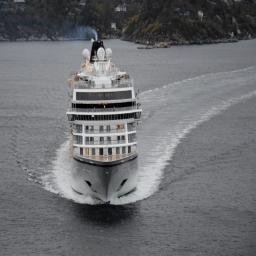cruises: (65, 37, 146, 206)
